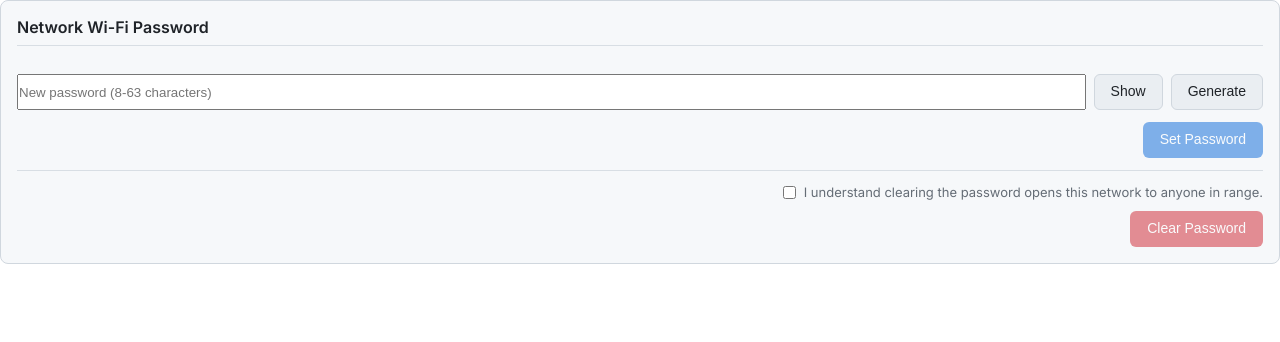
Test: NetworkPasswordCard › surfaces a 422 validation response inline on Set
Click the button "Generate".
click(1217, 92)  # box [1171,74,1263,110]
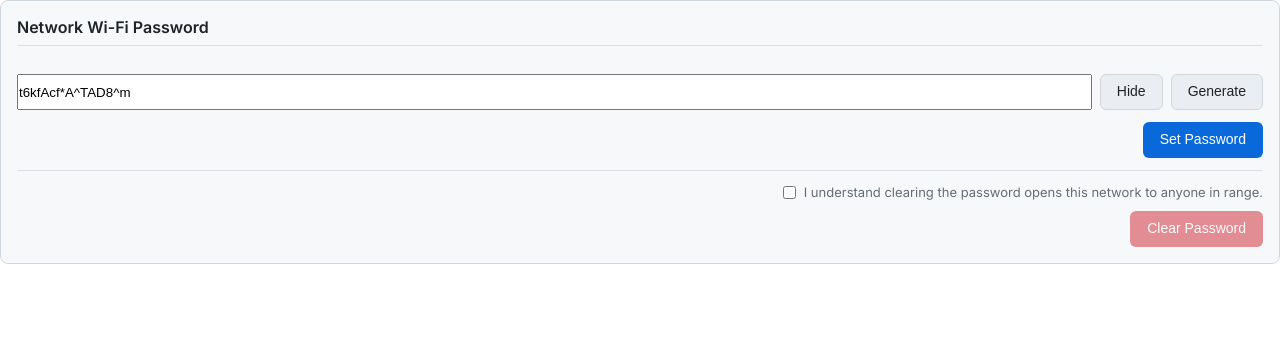
Click the button "Set Password".
click(1203, 140)  # box [1143,122,1263,158]
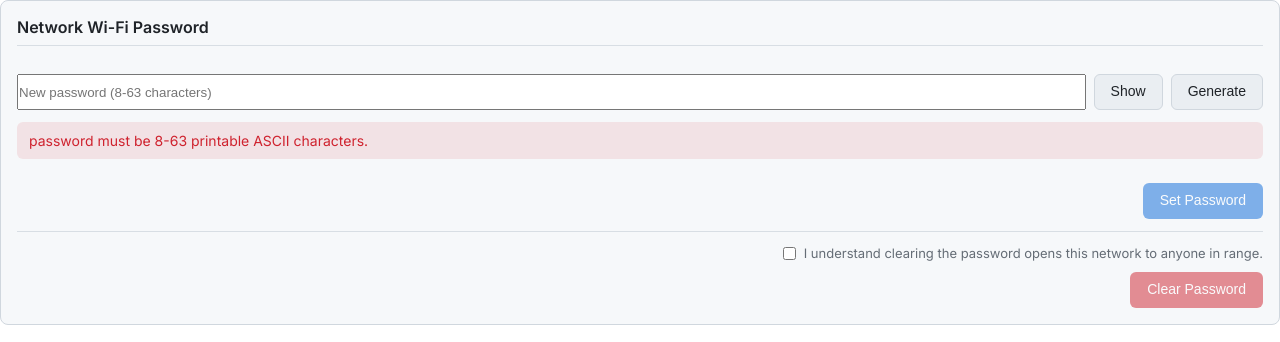
Expected: the text "password must be 8-63 printable ASCII characters." is shown, [17,122,1263,159]
